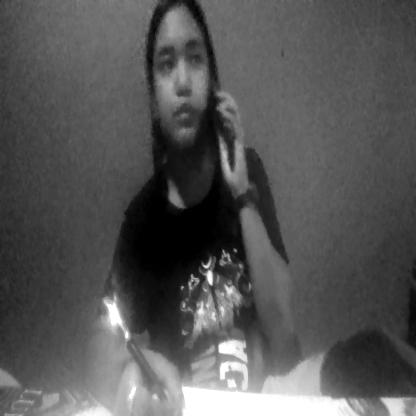Normal: (148, 1, 210, 144)
